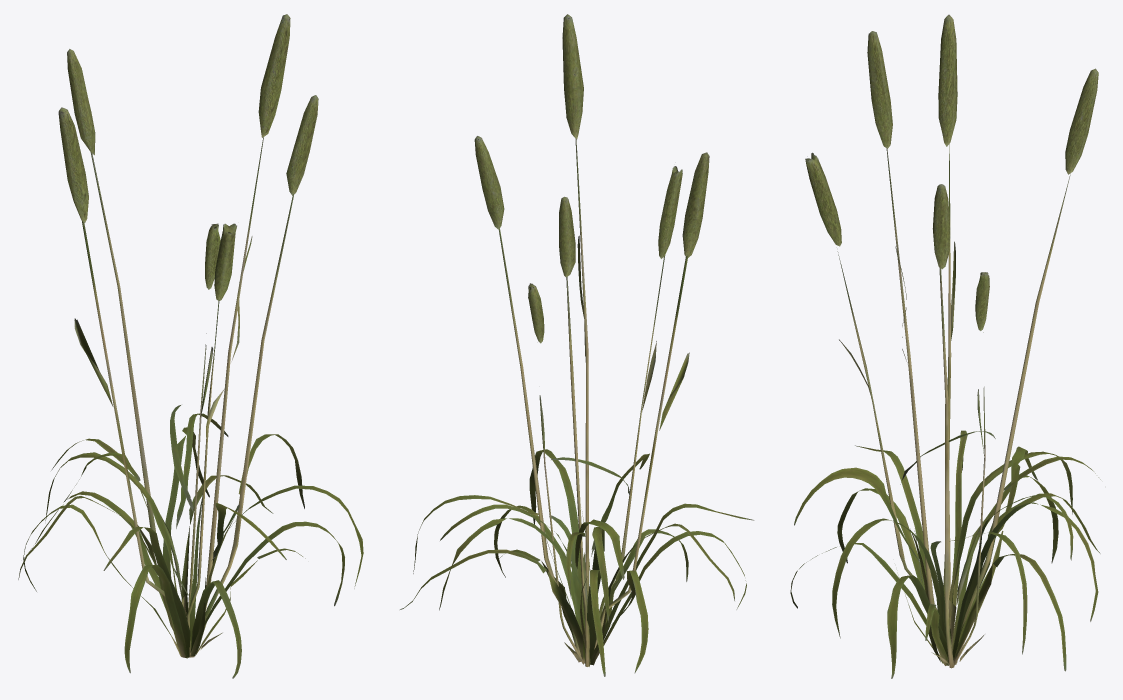
The model's file is PastureGrassSeedheads.glb.
3 renders of one model, left to right at view 1: azimuth 30°, elevation 25°; view 2: azimuth 150°, elevation 25°; view 3: azimuth 270°, elevation 25°, orthographic. The views are drawn at different scales.
Visible parts, largest first — view 1: geometry_0; view 2: geometry_0; view 3: geometry_0.
Boxes of the visible parts, bbox=[...] form: geometry_0: bbox=[18, 14, 363, 678]; geometry_0: bbox=[400, 14, 754, 676]; geometry_0: bbox=[790, 14, 1100, 678].
Bounding box in the file's own units: 0.3753 × 0.74 × 0.3211.
1 material, 1 textured.
